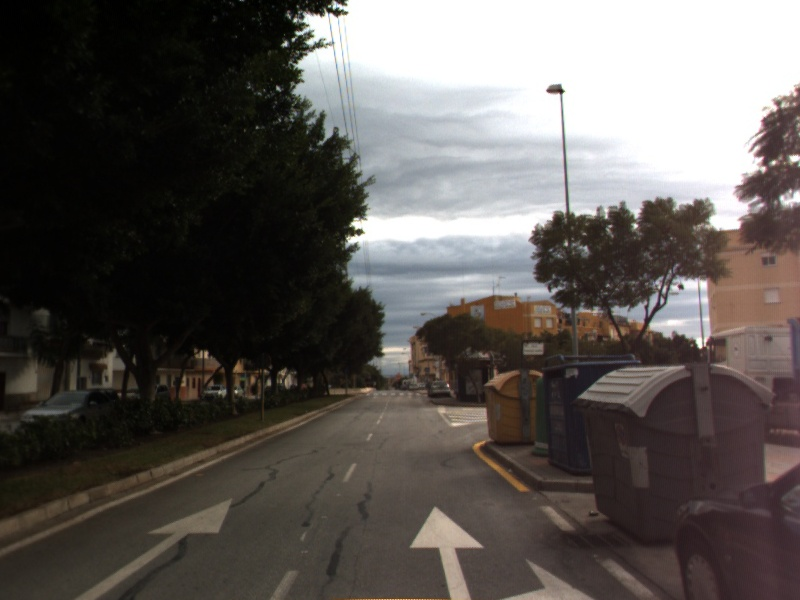STRAIGHT: (69, 492, 236, 600)
STRAIGHT_RIGHT: (406, 503, 600, 600)
